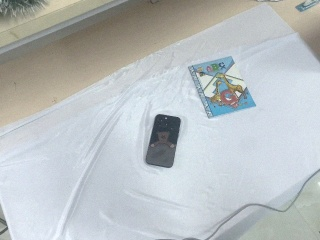book: (187, 54, 258, 120)
phone: (145, 113, 181, 168)
